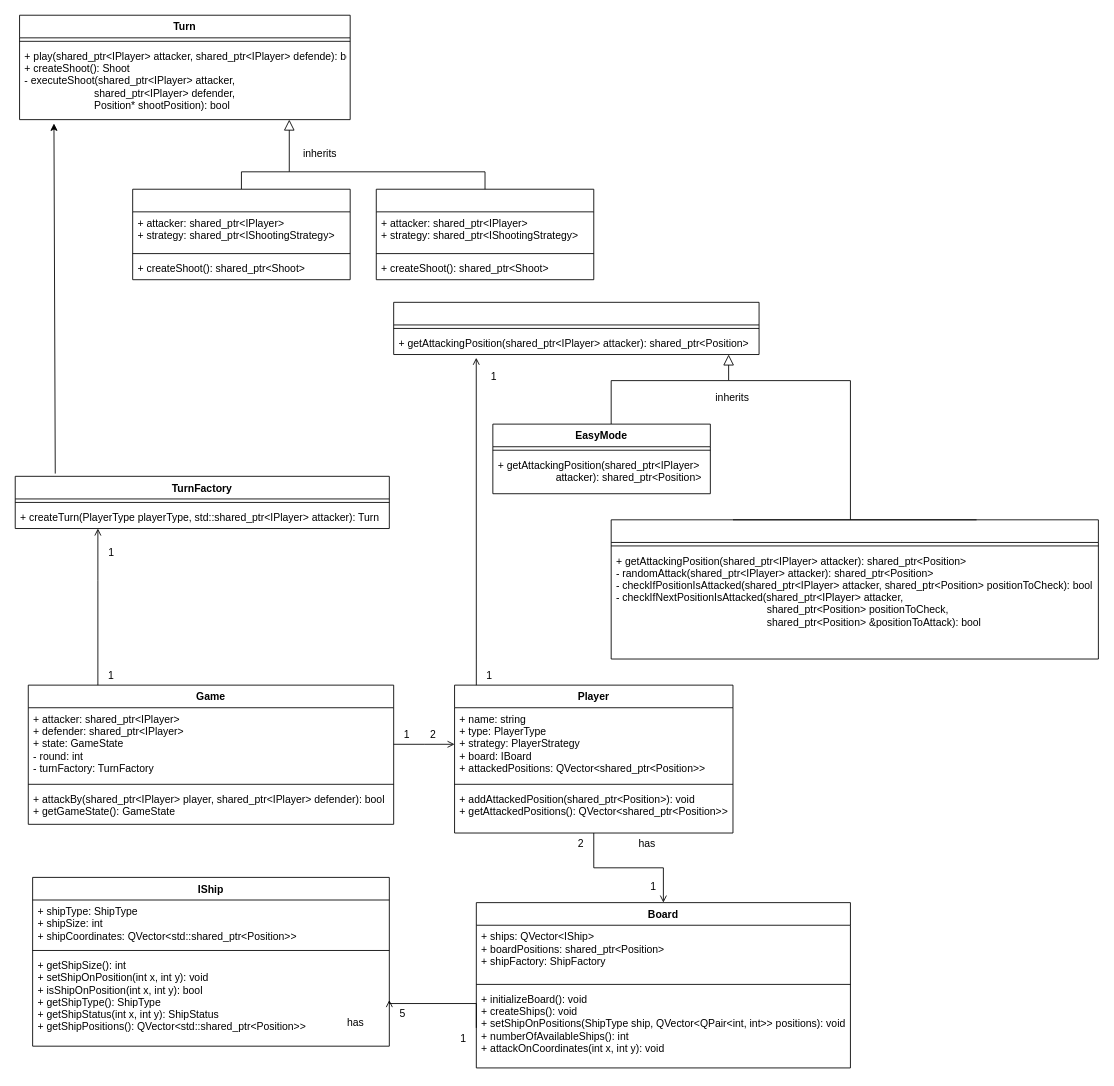
This 1114x1086 diagram has some shape labels left out. Each missing label, with the box of its shape:
ComputerTurn: (375, 188, 594, 280)
HardMode: (610, 519, 1098, 659)
HumanTurn: (132, 188, 350, 280)
ShootingStrategy: (393, 301, 759, 355)
